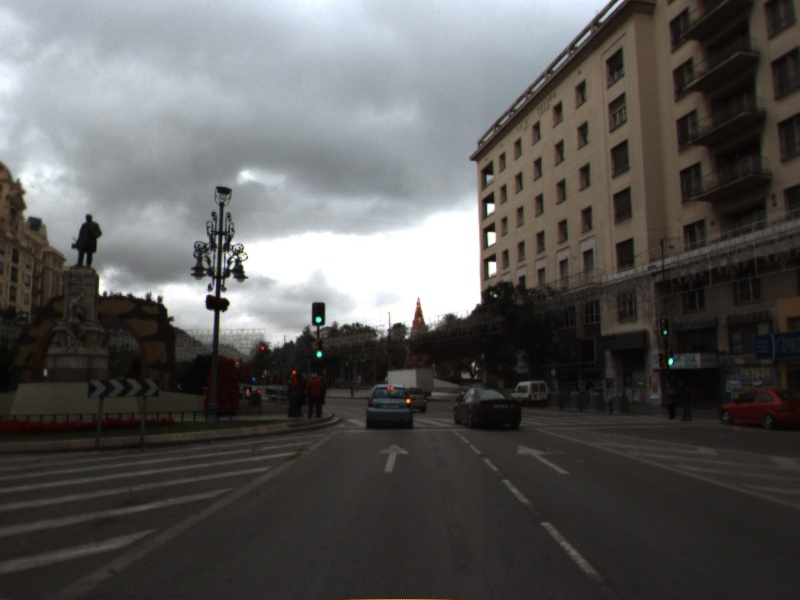STRAIGHT: (514, 442, 573, 477), (375, 442, 412, 475)
